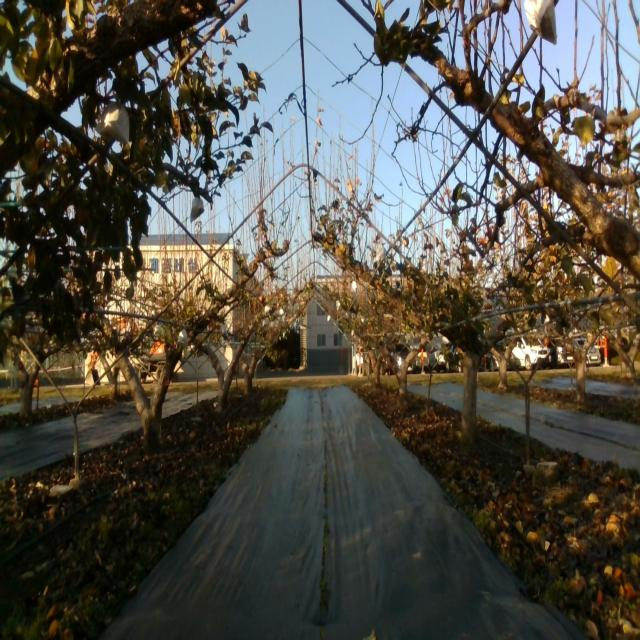pearbags: (96, 102, 131, 147), (524, 0, 558, 46), (191, 198, 205, 223), (177, 328, 189, 349), (376, 241, 387, 262)
